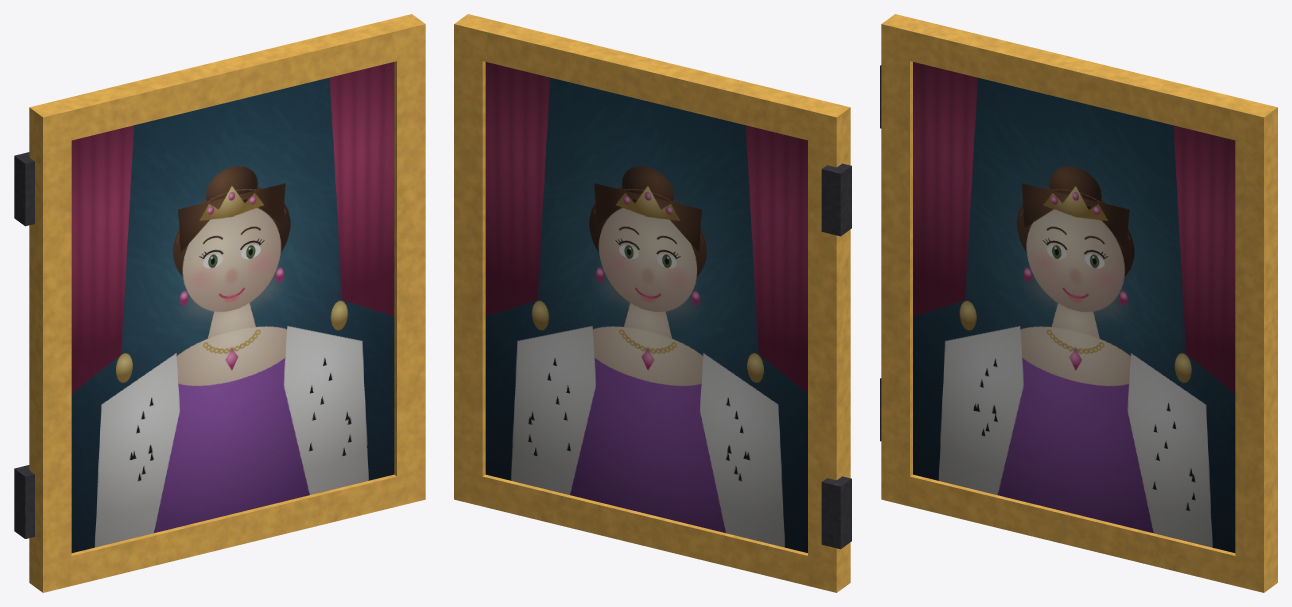
Rendered from dun_portrait.glb.
3 views of the same model, side by side, from view 1: azimuth 30°, elevation 25°; view 2: azimuth 150°, elevation 25°; view 3: azimuth 330°, elevation 25° (orthographic).
Visible parts, largest first — view 1: dun_portrait_pic_grimble_0, dun_portrait_gold_0, dun_portrait_iron_0; view 2: dun_portrait_pic_grimble_0, dun_portrait_gold_0, dun_portrait_iron_0; view 3: dun_portrait_pic_grimble_0, dun_portrait_gold_0.
Part boxes in pixels (x1,y1,x2,y2): dun_portrait_pic_grimble_0: (71, 62, 394, 552); dun_portrait_gold_0: (29, 14, 425, 592); dun_portrait_iron_0: (14, 152, 34, 538); dun_portrait_pic_grimble_0: (485, 62, 807, 552); dun_portrait_gold_0: (454, 14, 850, 592); dun_portrait_iron_0: (821, 163, 851, 549); dun_portrait_pic_grimble_0: (913, 62, 1235, 552); dun_portrait_gold_0: (881, 14, 1277, 592).
Size of the model in its own units: 1.64 by 1.9 by 0.14.
Materials: 3 (3 with a texture image).
